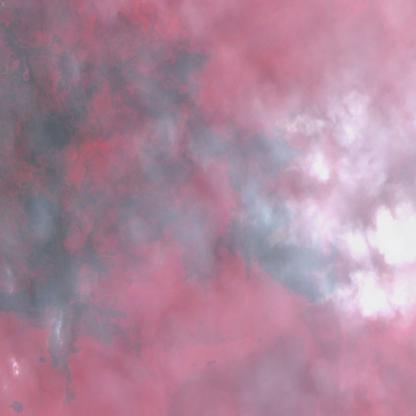fire: (250, 113, 353, 328)
